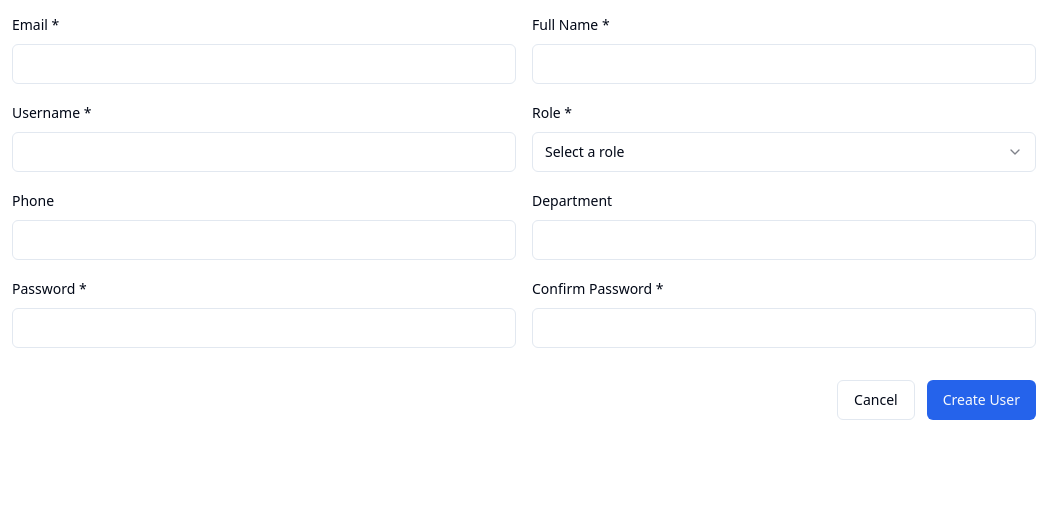
Test: UserForm › Create Mode › validates password length
In the password field labelled "Password *": (264, 328) x1=12 y1=308 x2=516 y2=348, type "12345"
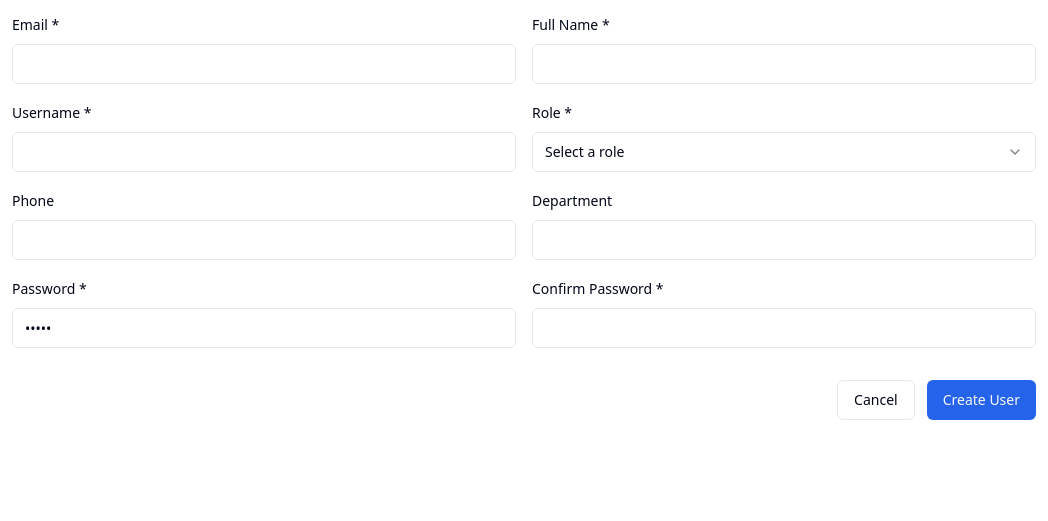
Click the button "Create User": (981, 400) x1=927 y1=380 x2=1036 y2=420
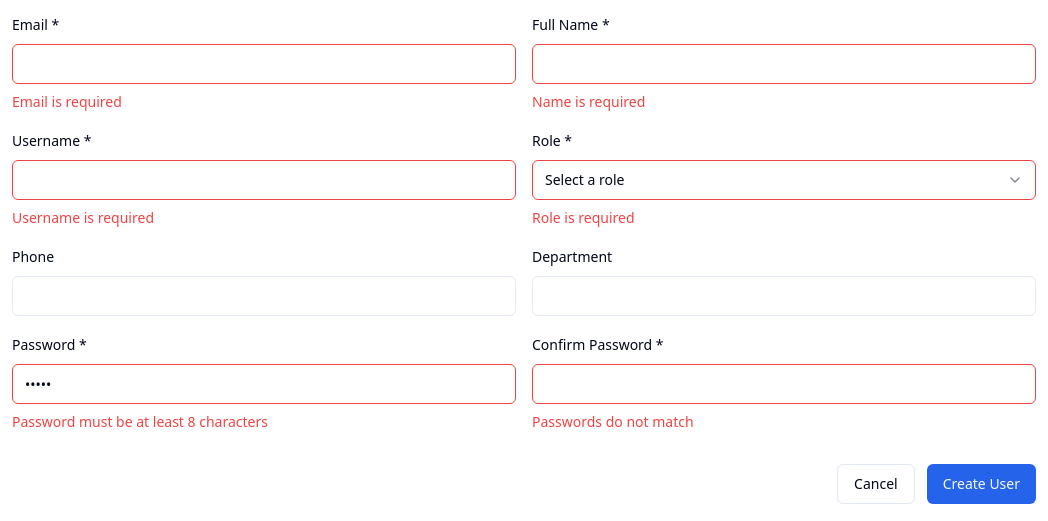
expect the text "Password must be at least 8 characters" is shown: met, box x1=12 y1=412 x2=268 y2=431
